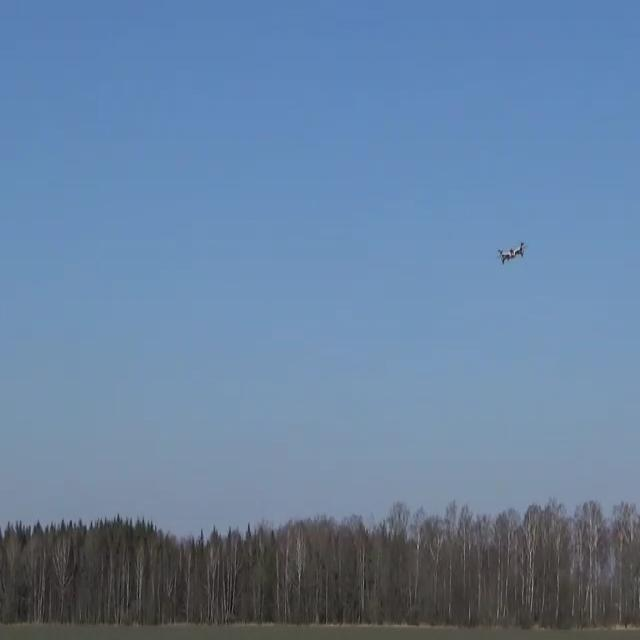Drone: (485, 226, 534, 274)
